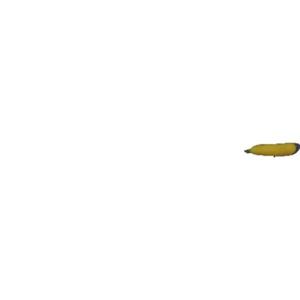banana: (243, 139, 300, 159)
